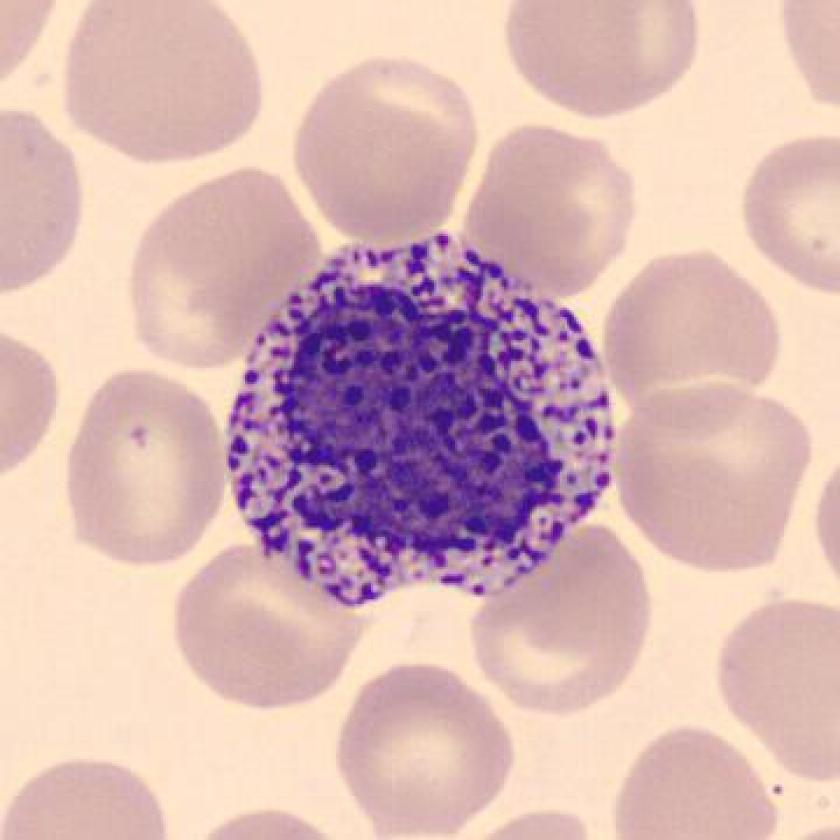basophil: (225, 232, 624, 598)
